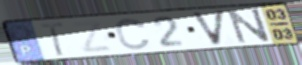2: (152, 15, 187, 49)
C: (114, 16, 152, 51)
N: (225, 7, 273, 45)
T: (37, 21, 67, 58)
V: (189, 9, 227, 47)
Z: (69, 19, 115, 54)
